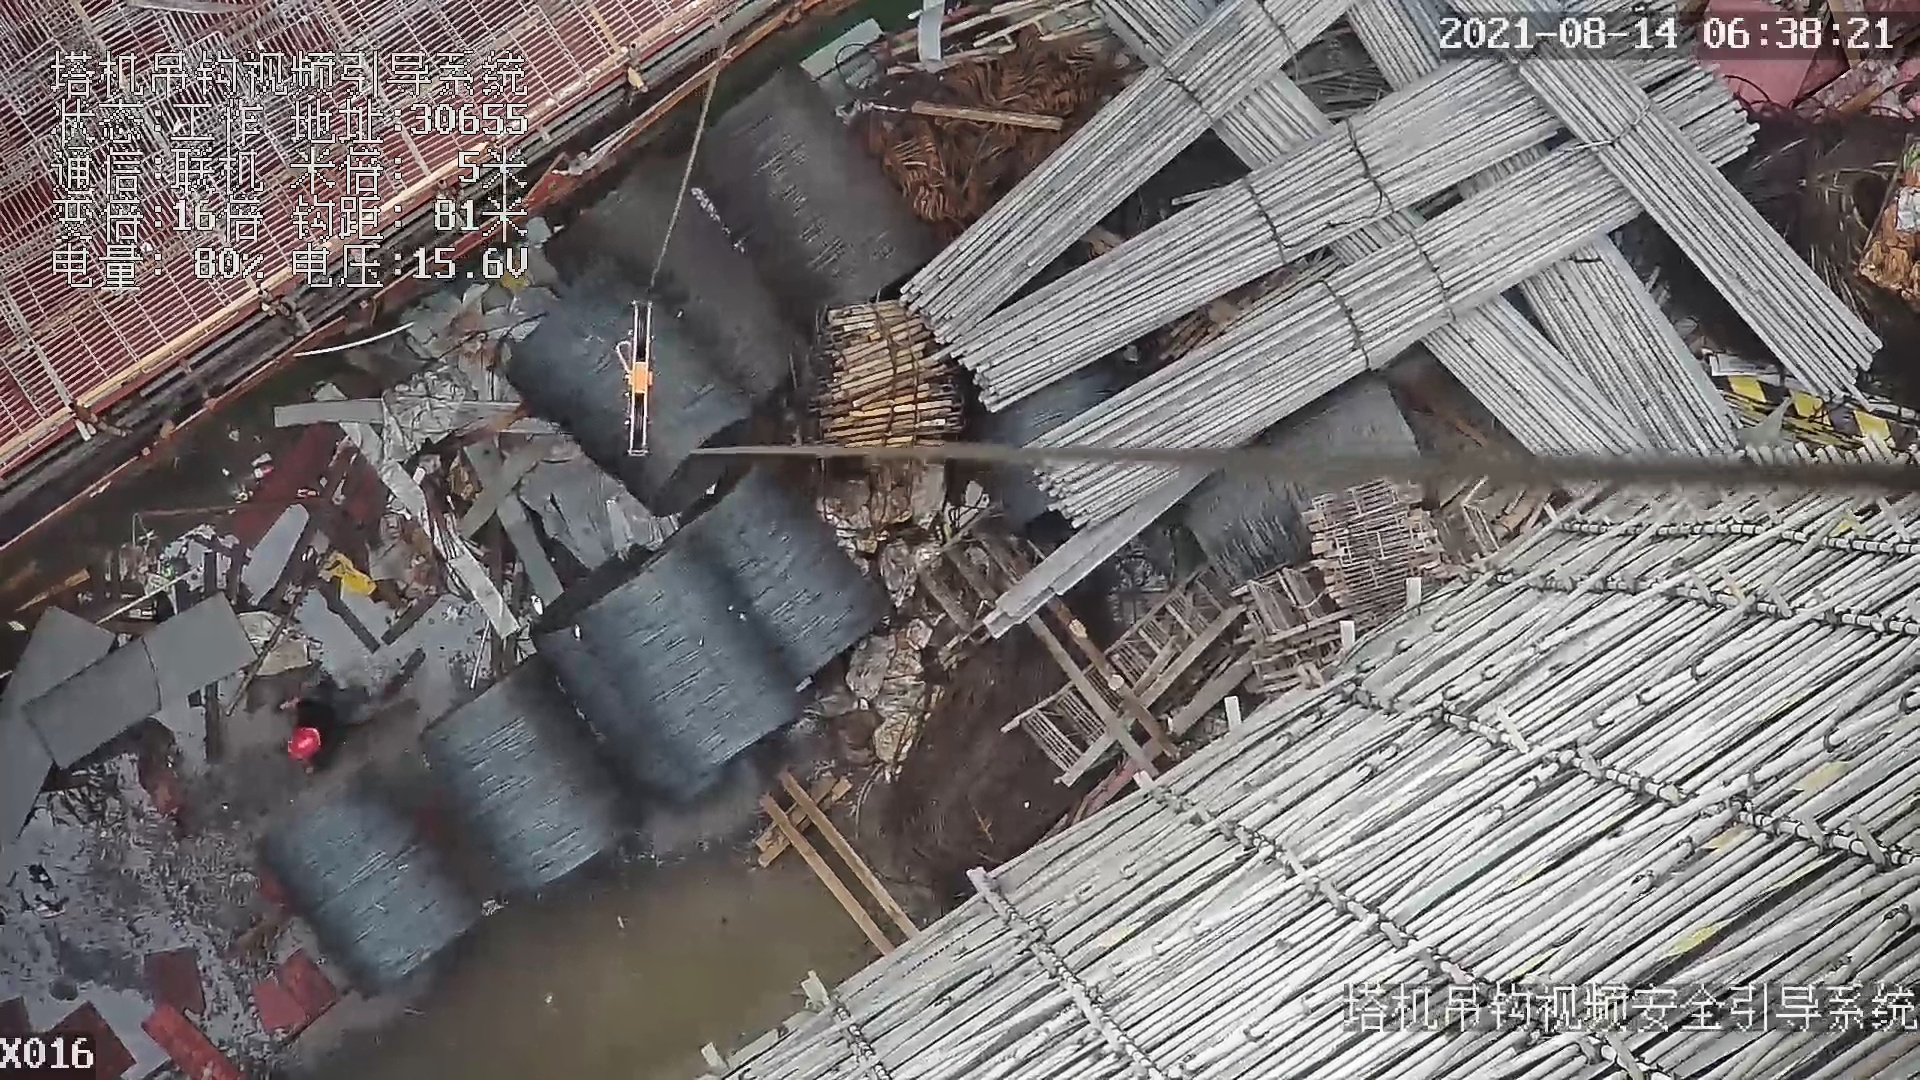helmet: (265, 717, 335, 771)
hook: (615, 299, 664, 459)
person: (274, 681, 368, 774)
